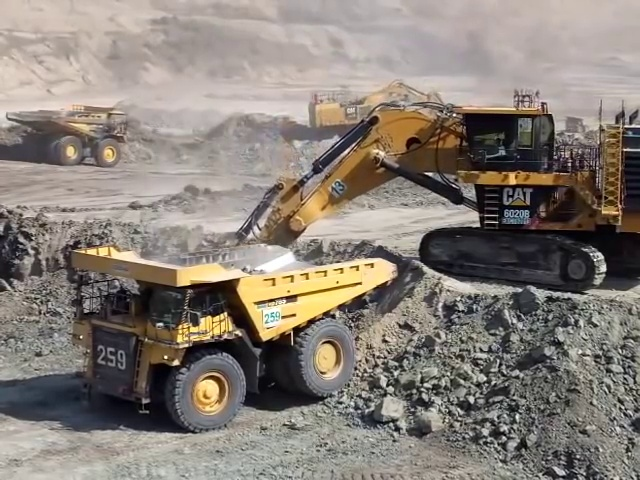dumper: (67, 247, 397, 433), (3, 104, 130, 170)
excavator: (259, 91, 638, 298), (300, 79, 450, 149)
